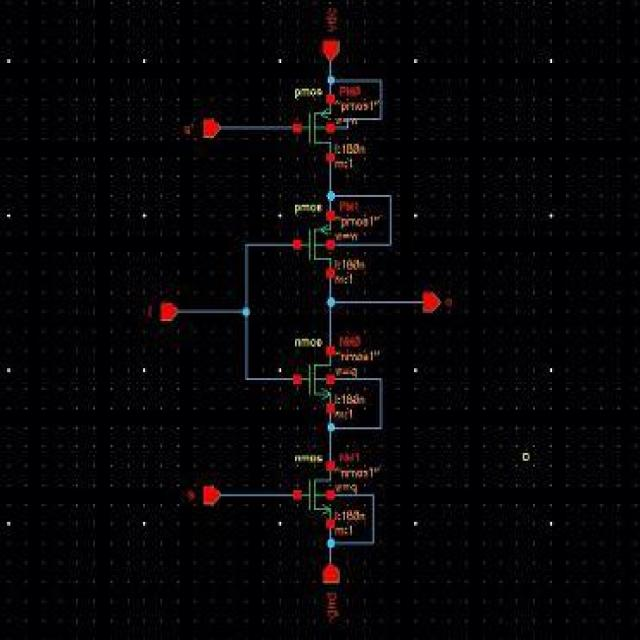nmos: (290, 336, 335, 412), (291, 453, 337, 527)
pmos: (288, 85, 336, 169), (289, 201, 336, 276)
